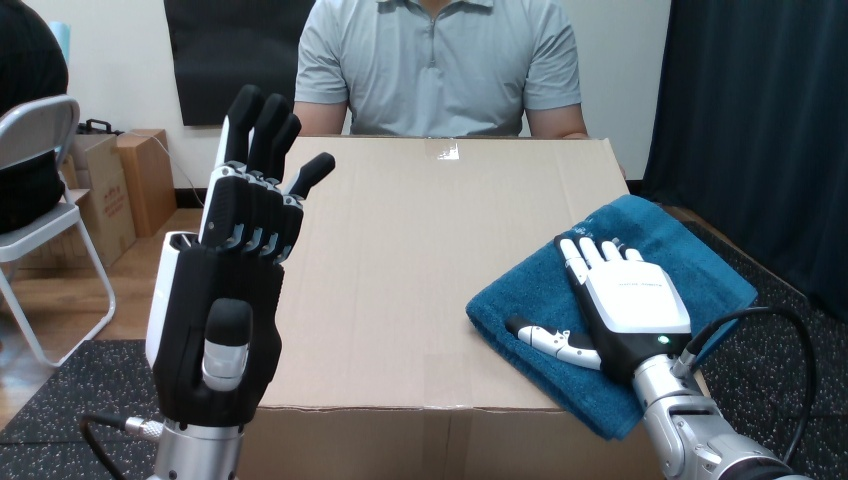left robot hand: (80, 85, 334, 479), (506, 234, 815, 479), (692, 313, 806, 459)
